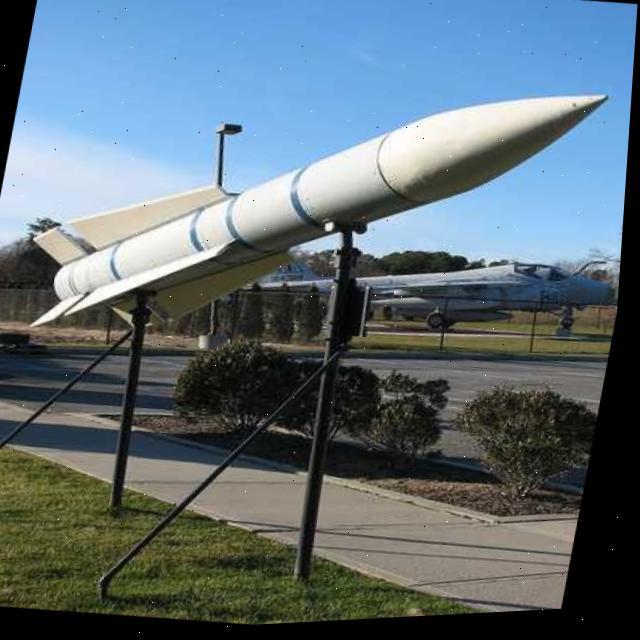missile: (33, 18, 625, 388)
